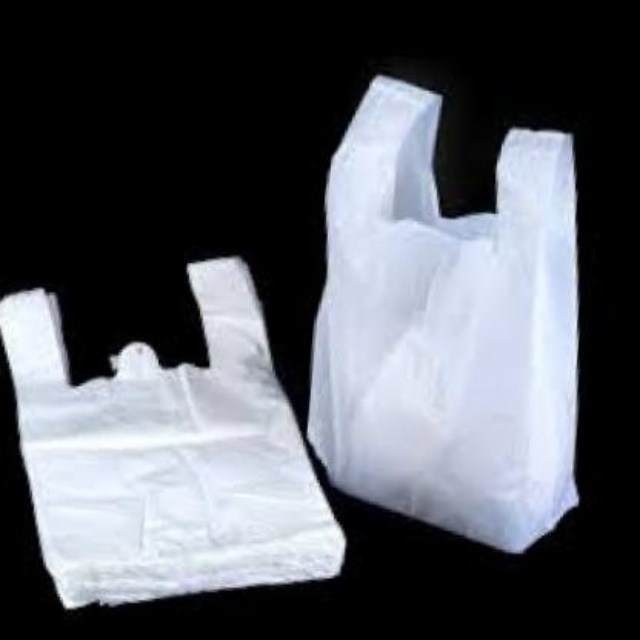trash: (308, 75, 577, 551), (0, 257, 343, 606)
